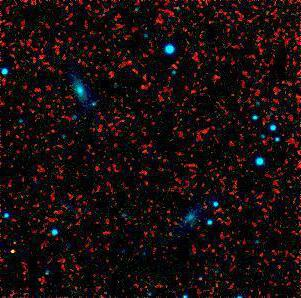star: (0, 236, 29, 266)
